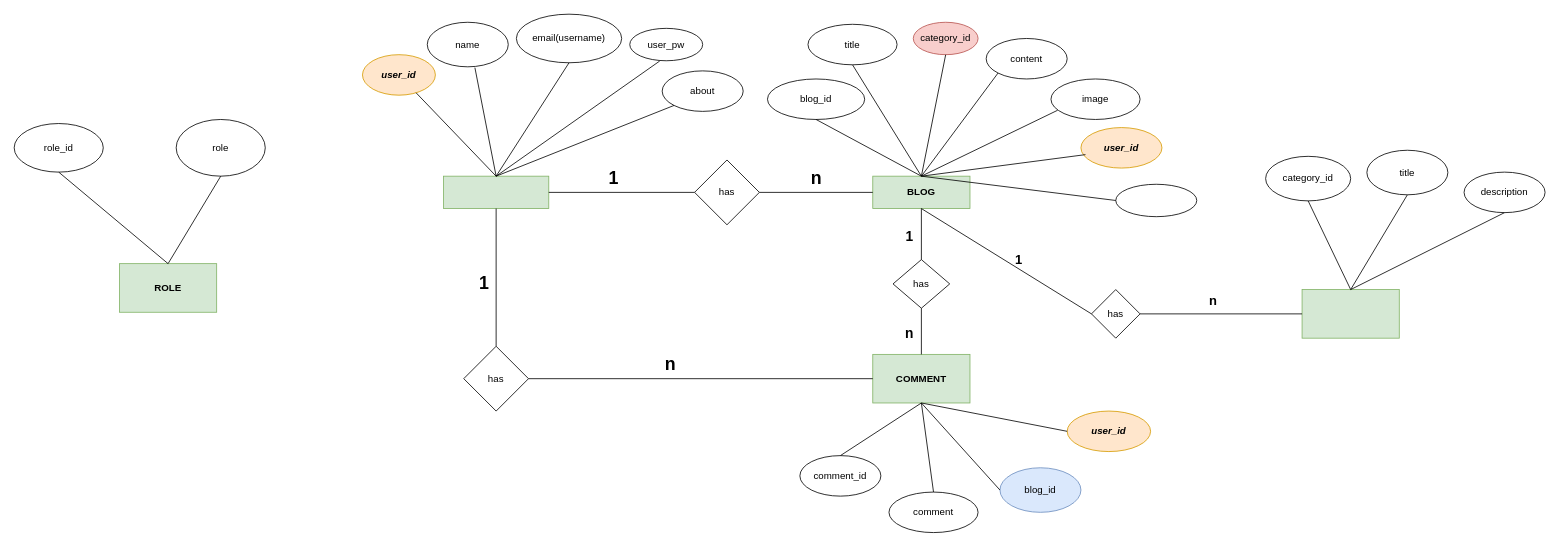
This 1559x547 diagram has some shape labels left out. Here are the shapes that lost their labels. From the top down, the box of each, then its label:
(443, 175, 549, 209): USER
(1115, 183, 1197, 217): date
(1301, 289, 1399, 338): CATEGORY
